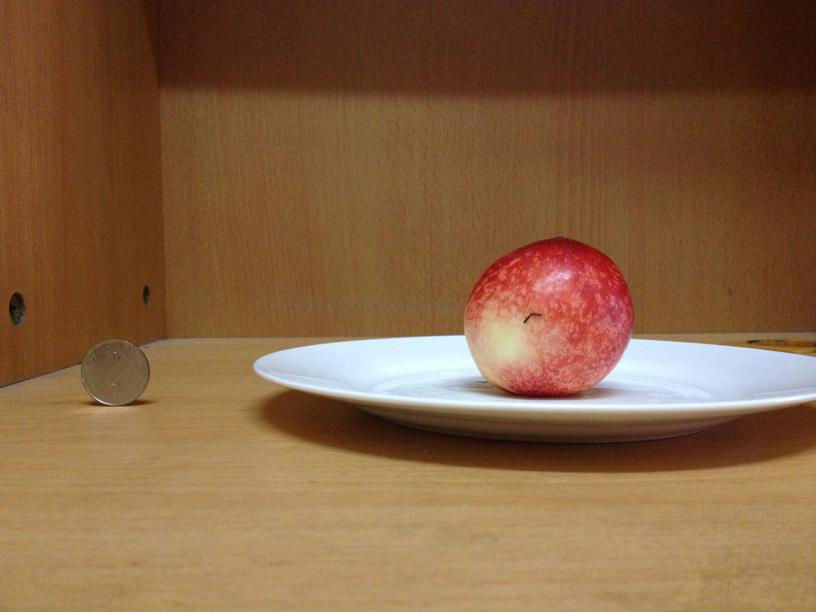coin: (81, 340, 149, 404)
peach: (459, 236, 631, 392)
